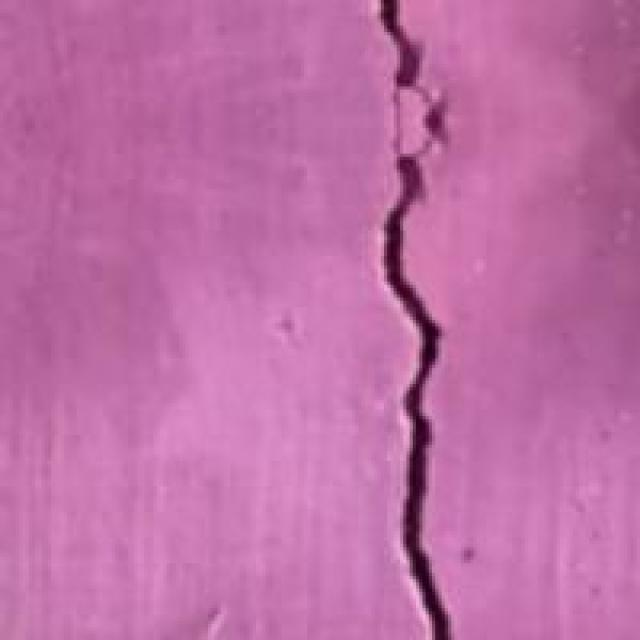crack: (326, 0, 524, 640)
